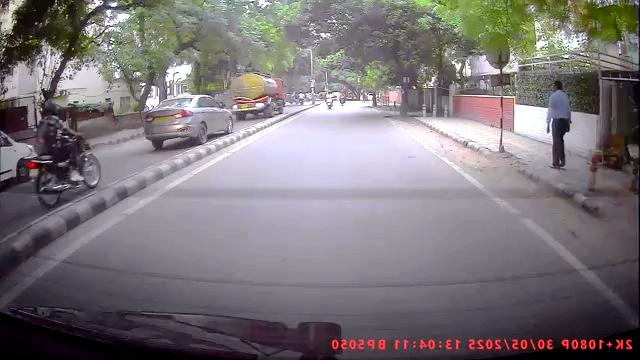motorcycle_with_helmet: (24, 97, 103, 210)
